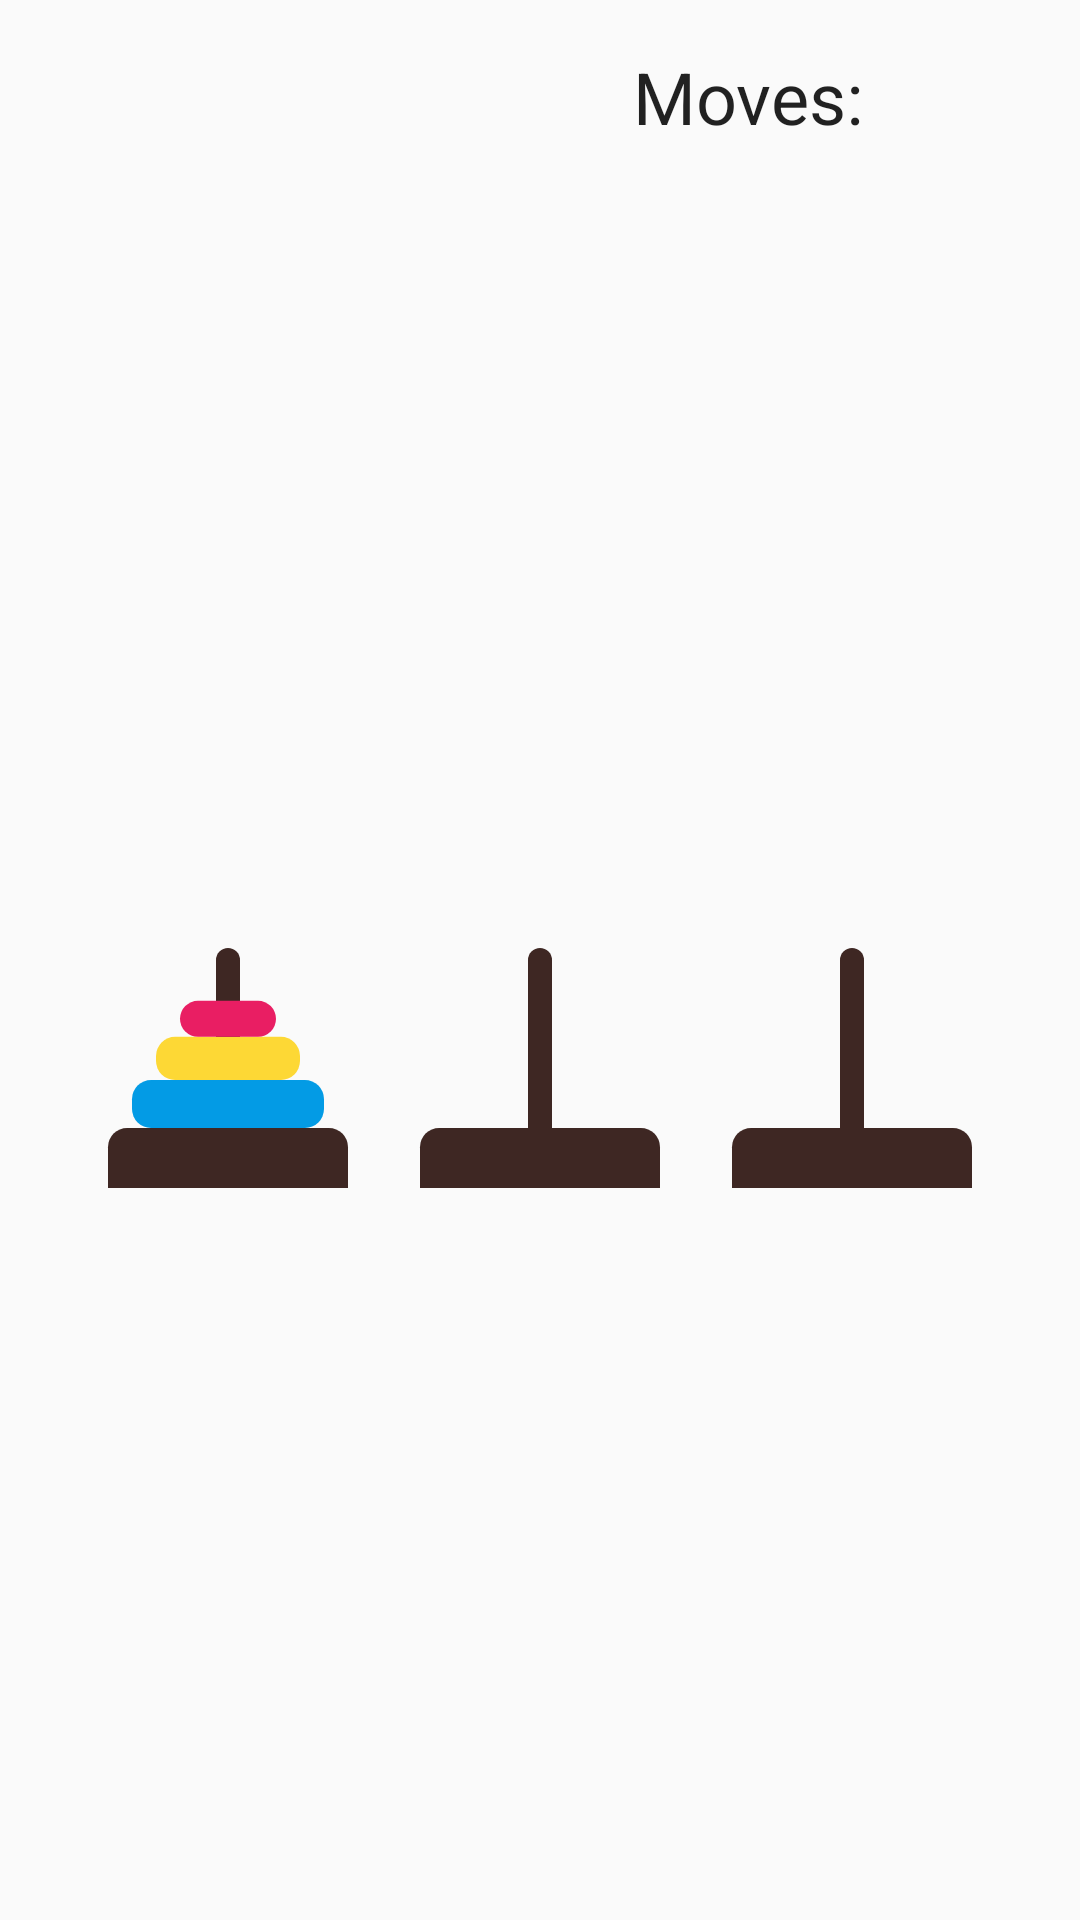

Where to tap for icons on this 1080px x 1920px app screen, as [x,y]:
toh all blocks: [228,1068]
toh no blocks: [540,1068], [852,1068]
